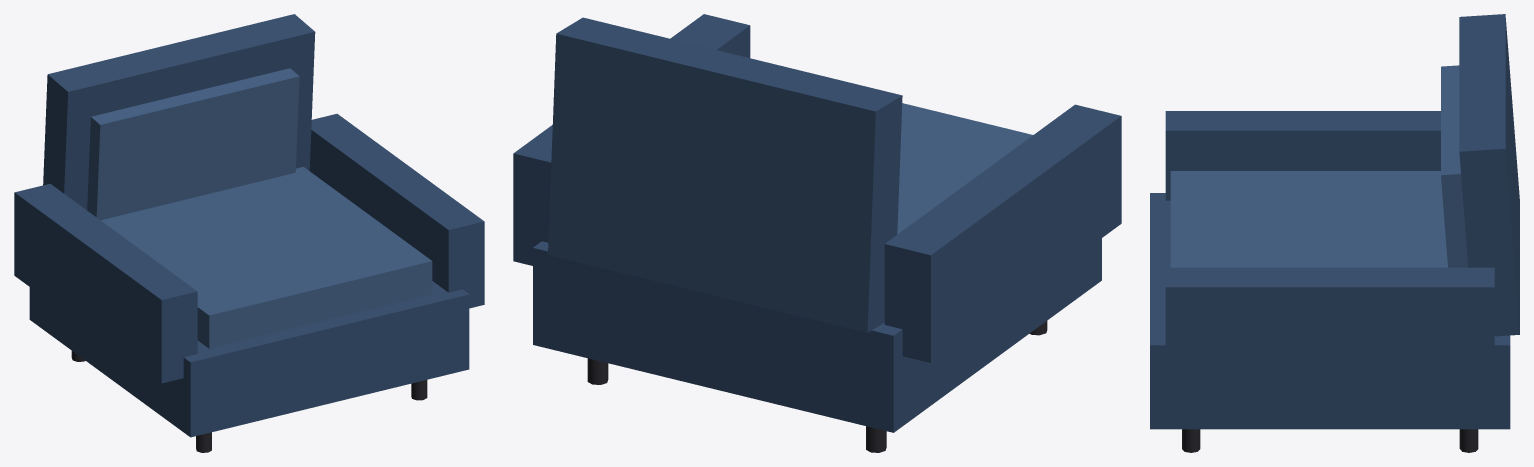
File: armchair.glb
The picture shows the model from 3 angles, left to right: view 1: azimuth 30°, elevation 25°; view 2: azimuth 150°, elevation 25°; view 3: azimuth 270°, elevation 25°; orthographic projection. The views are drawn at different scales.
Bounding box in the file's own units: 0.81 × 0.6627 × 0.7189.
